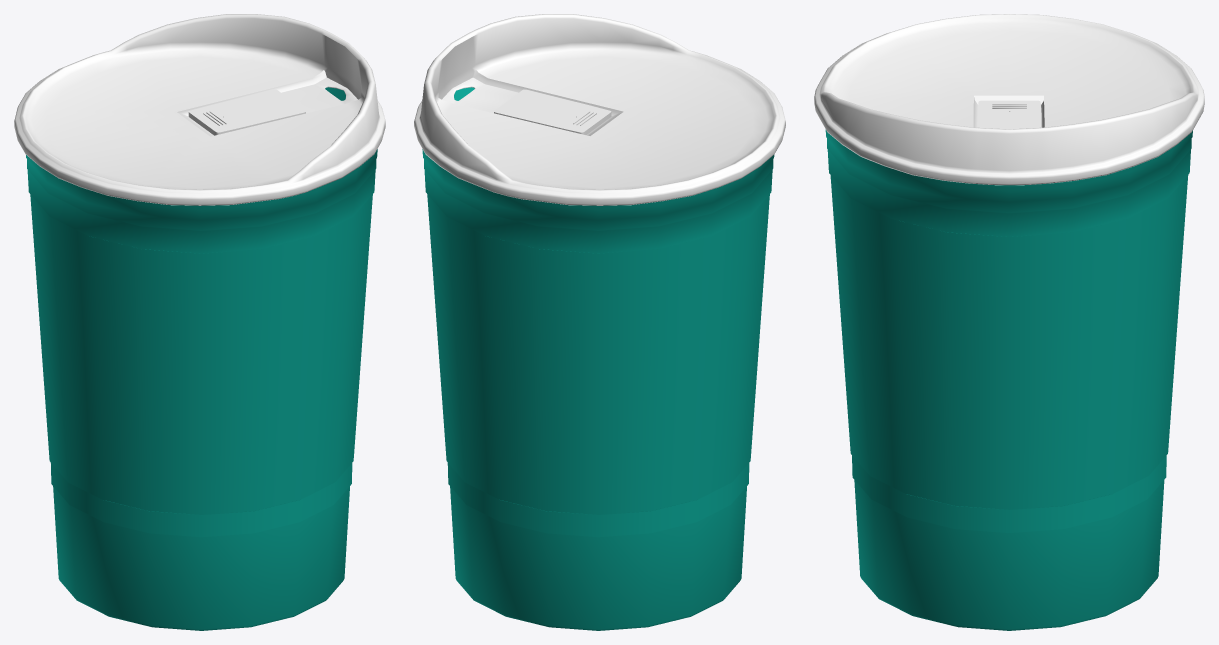
File: cup.FBX
3 views of the same model, side by side, from view 1: azimuth 30°, elevation 25°; view 2: azimuth 150°, elevation 25°; view 3: azimuth 270°, elevation 25° (orthographic). The views are drawn at different scales.
Parts seen in each view (by area): view 1: lid001; view 2: lid001; view 3: lid001.
Boxes of the visible parts, x1,y1,x2,y2 form: lid001: (14, 14, 385, 630); lid001: (414, 14, 785, 630); lid001: (814, 14, 1204, 630).
Size of the model in its own units: 10.31 by 15.13 by 10.45.
Materials: 2 (2 with a texture image).
